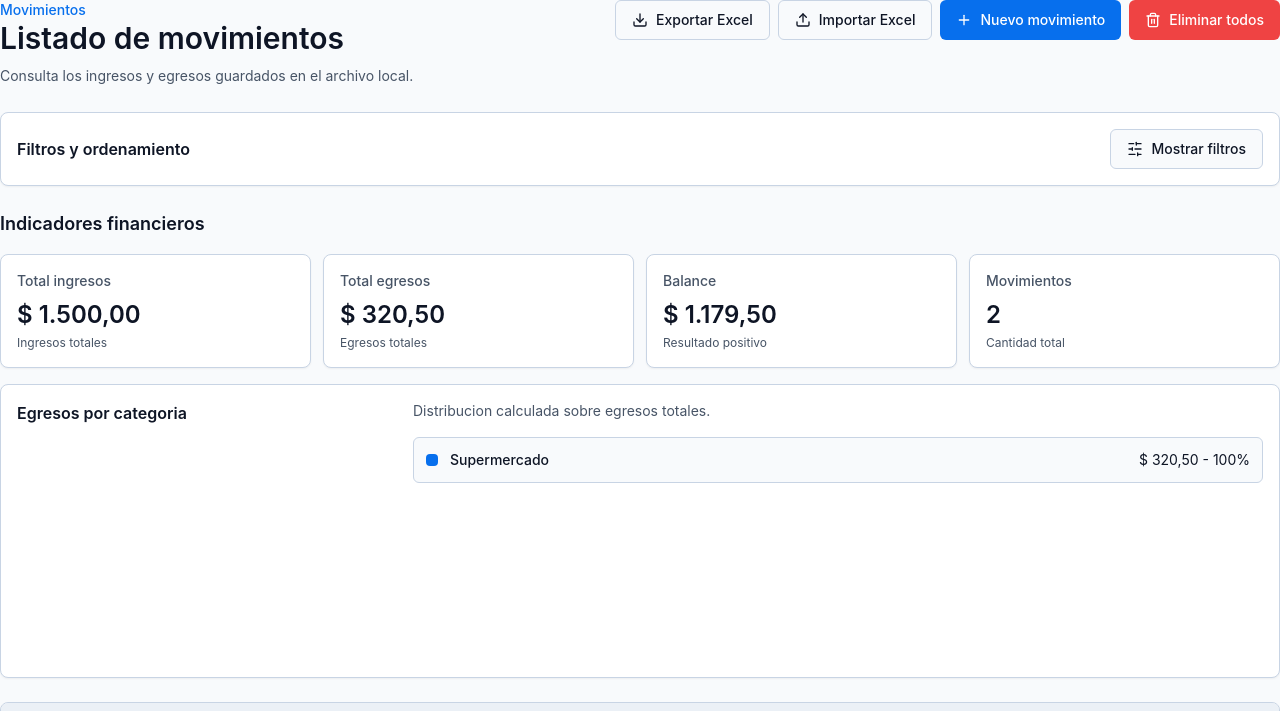
Test: TransactionsPage › TransactionsPage_WhenFilterRangeIsInvalid_ShouldKeepPreviousVisibleResults
The width and height of the screenshot is (1280, 711).
Click the button "Mostrar filtros" at (1187, 149), box 1110,129 -> 1263,169
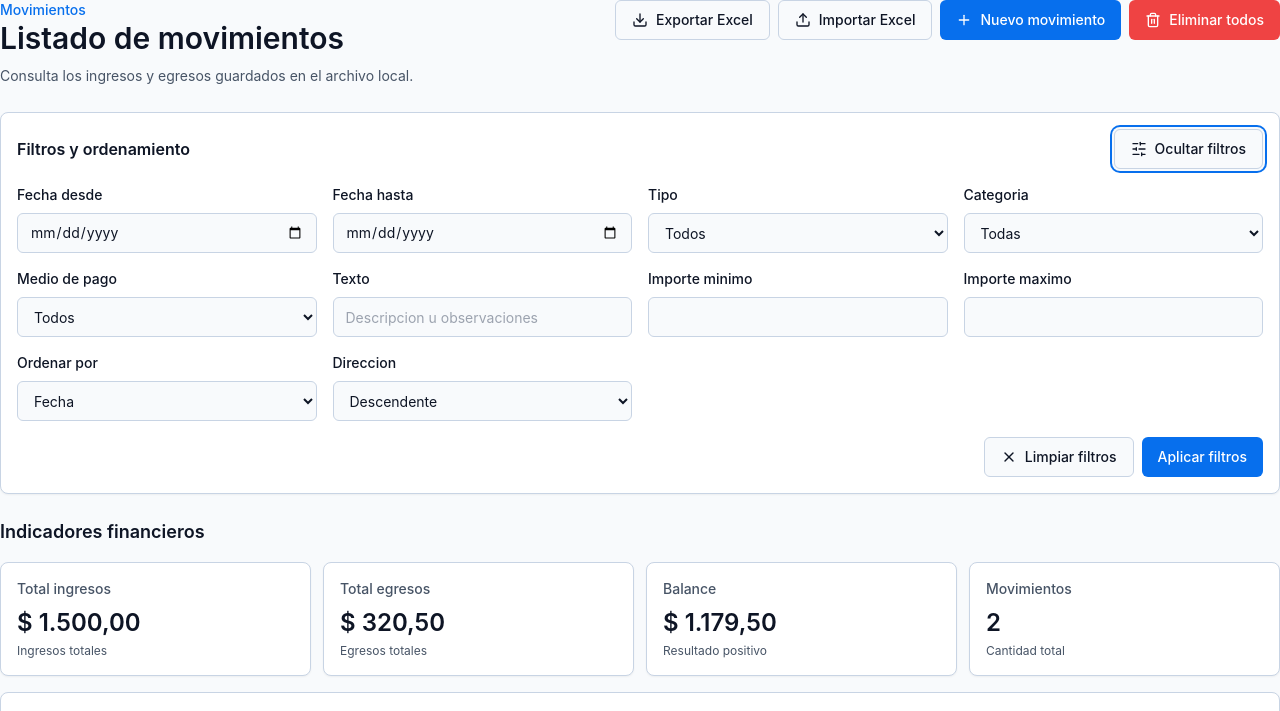
Type "500" into the number field labelled "Importe minimo" at (798, 317), box 648,297 -> 948,337
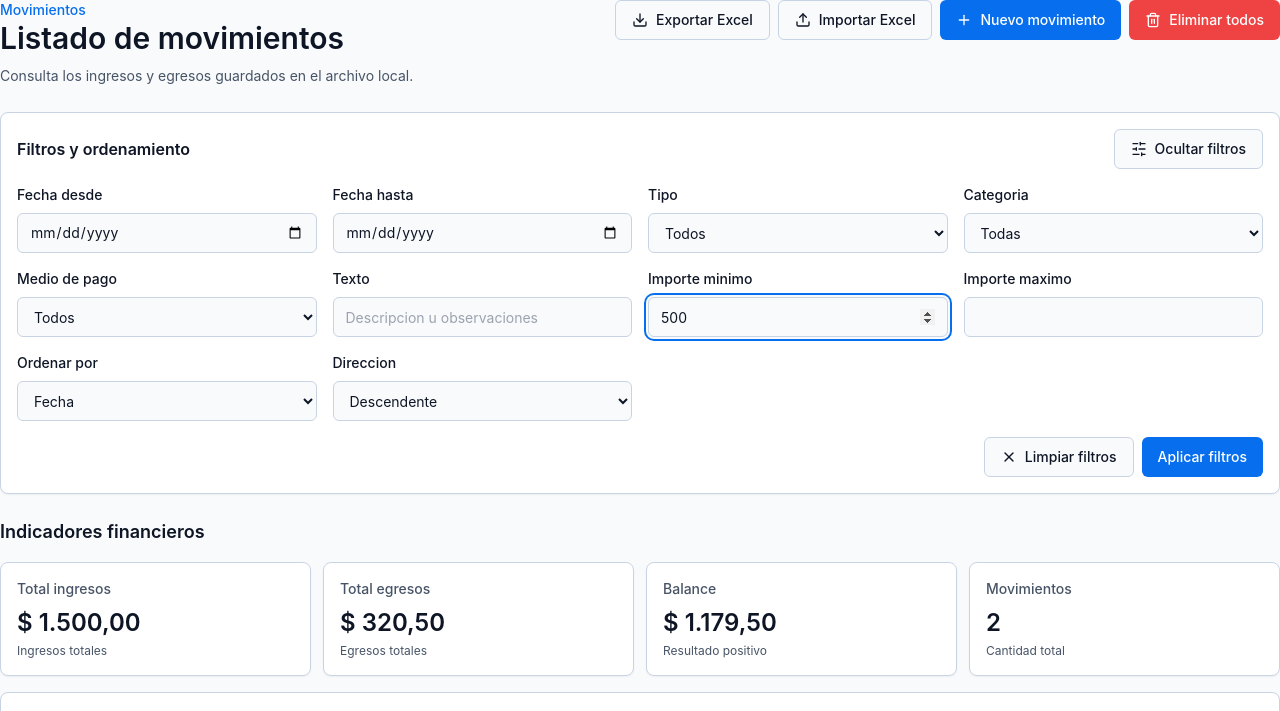
Type "100" into the number field labelled "Importe maximo" at (1113, 317), box 964,297 -> 1263,337
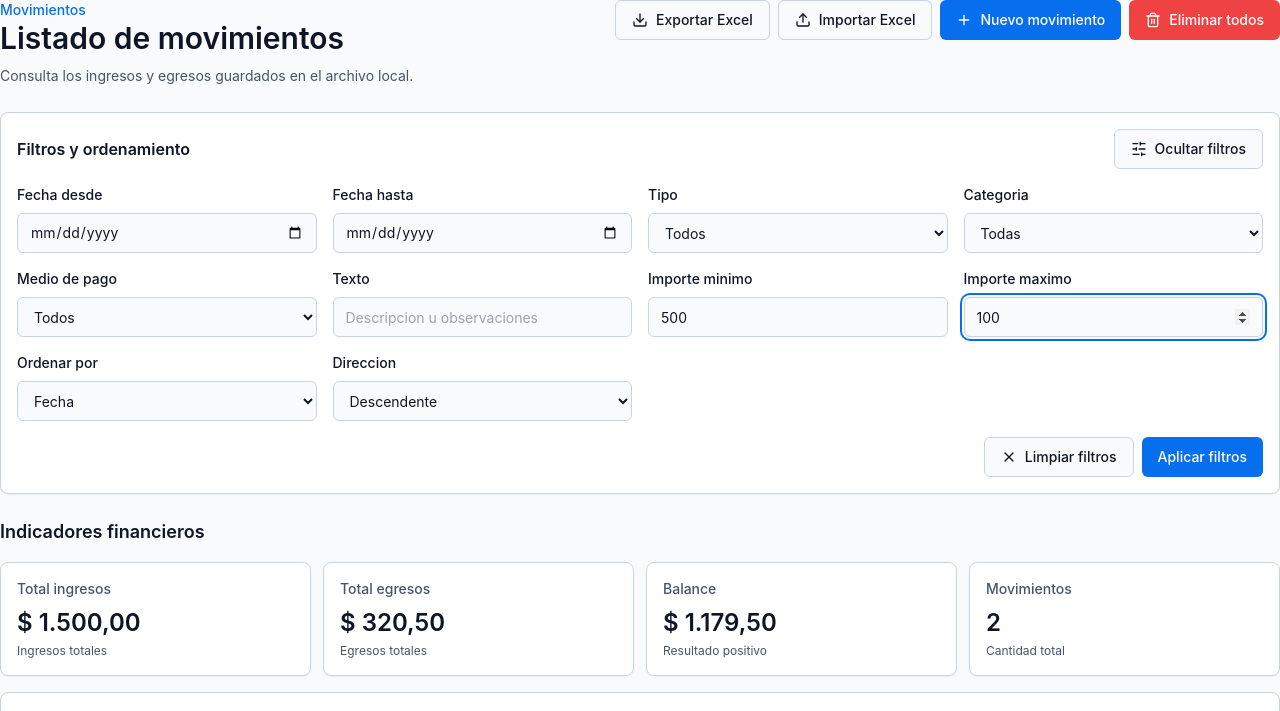
Click the button "Aplicar filtros" at (1202, 457), box 1142,437 -> 1263,477
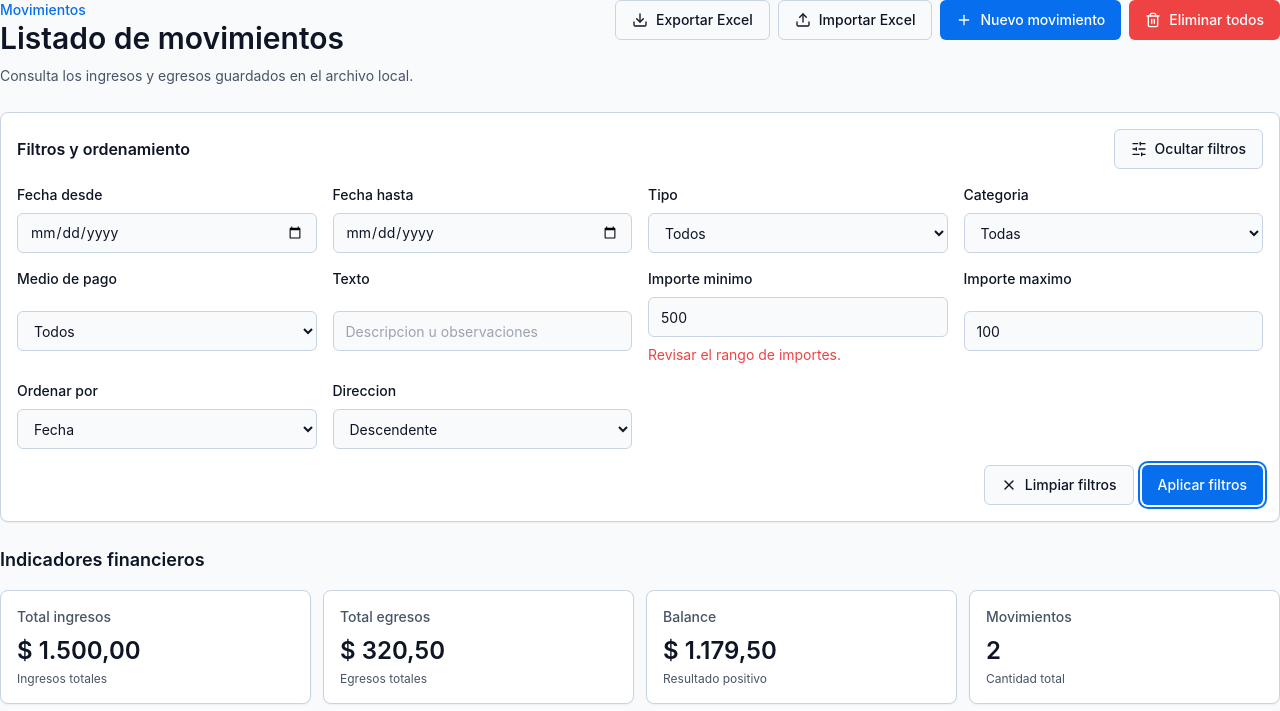
Expected: the text "Revisar el rango de importes." is shown, 648,346 -> 841,363
